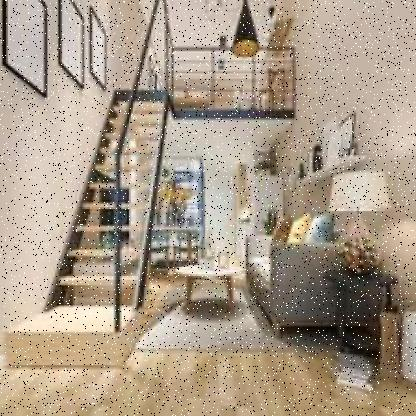stair_up: (43, 197, 146, 306)
